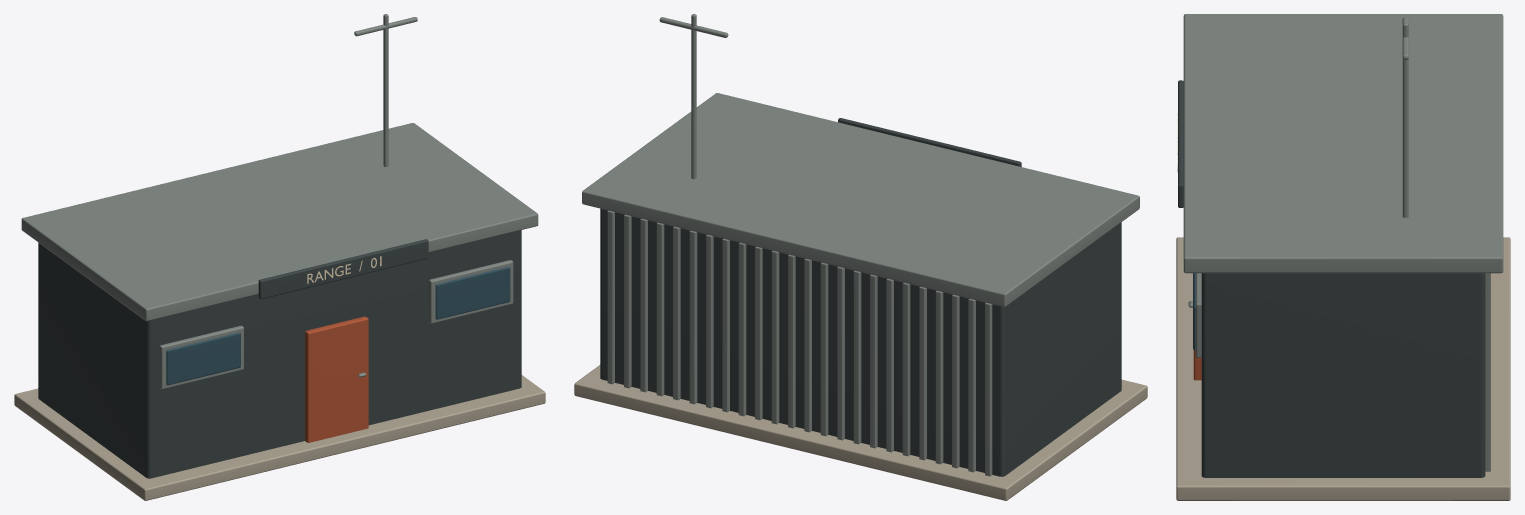
Rendered from shelter.glb.
3 renders of one model, left to right at view 1: azimuth 30°, elevation 25°; view 2: azimuth 150°, elevation 25°; view 3: azimuth 270°, elevation 25°, orthographic. The views are drawn at different scales.
Parts seen in each view (by area): view 1: Field shelter, Roof, Foundation, Access door, Sign backing, Window.001, Window, Window frame.001, Window frame, Mast; view 2: Roof, Field shelter, Foundation, Cladding rib.008, Cladding rib.013, Cladding rib.015, Cladding rib.020, Cladding rib.003, Cladding rib.005, Cladding rib.010, Cladding rib.018, Cladding rib (+17 smaller); view 3: Roof, Field shelter, Foundation, Mast, Cladding rib.023, Sign backing, Window frame.001.
Part boxes in pixels (x1,y1,x2,y2): Field shelter: (38, 230, 521, 478); Roof: (21, 123, 538, 321); Foundation: (14, 375, 545, 500); Access door: (305, 316, 368, 442); Sign backing: (258, 239, 428, 299); Window.001: (435, 266, 510, 319); Window: (166, 332, 240, 385); Window frame.001: (428, 260, 513, 323); Window frame: (159, 325, 243, 389); Mast: (383, 14, 388, 166); Roof: (582, 93, 1139, 306); Field shelter: (600, 208, 1121, 476); Foundation: (574, 365, 1147, 500); Cladding rib.008: (853, 270, 861, 444); Cladding rib.013: (771, 250, 779, 424); Cladding rib.015: (738, 242, 746, 416); Cladding rib.020: (656, 222, 664, 396); Cladding rib.003: (935, 290, 943, 464); Cladding rib.005: (902, 282, 910, 456); Cladding rib.010: (820, 262, 828, 436); Cladding rib.018: (689, 230, 697, 404); Cladding rib: (985, 302, 992, 476); Roof: (1183, 14, 1503, 273); Field shelter: (1201, 273, 1485, 477); Foundation: (1176, 237, 1510, 500); Mast: (1402, 22, 1408, 217); Cladding rib.023: (1485, 273, 1490, 471); Sign backing: (1178, 80, 1183, 207); Window frame.001: (1195, 273, 1201, 357).
Bounding box in the file's own units: 7.6 × 6.17 × 4.3.
